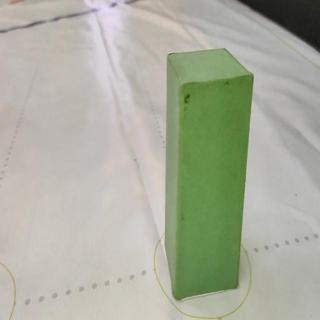greenbox: (165, 46, 255, 300)
